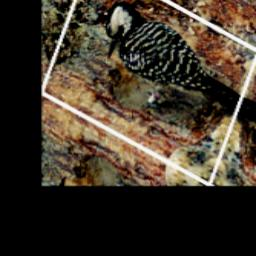Woodpecker: (80, 0, 254, 156)
